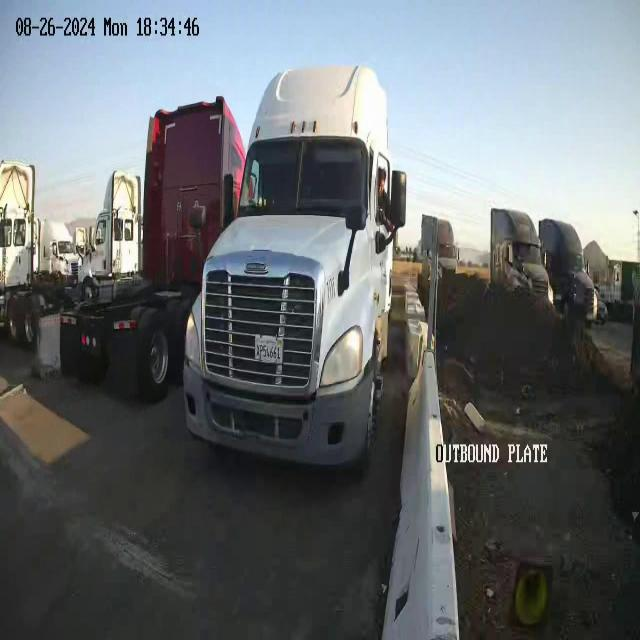TRUCK_IN: (59, 94, 244, 395)
TRUCK_OUT: (180, 65, 425, 472)
